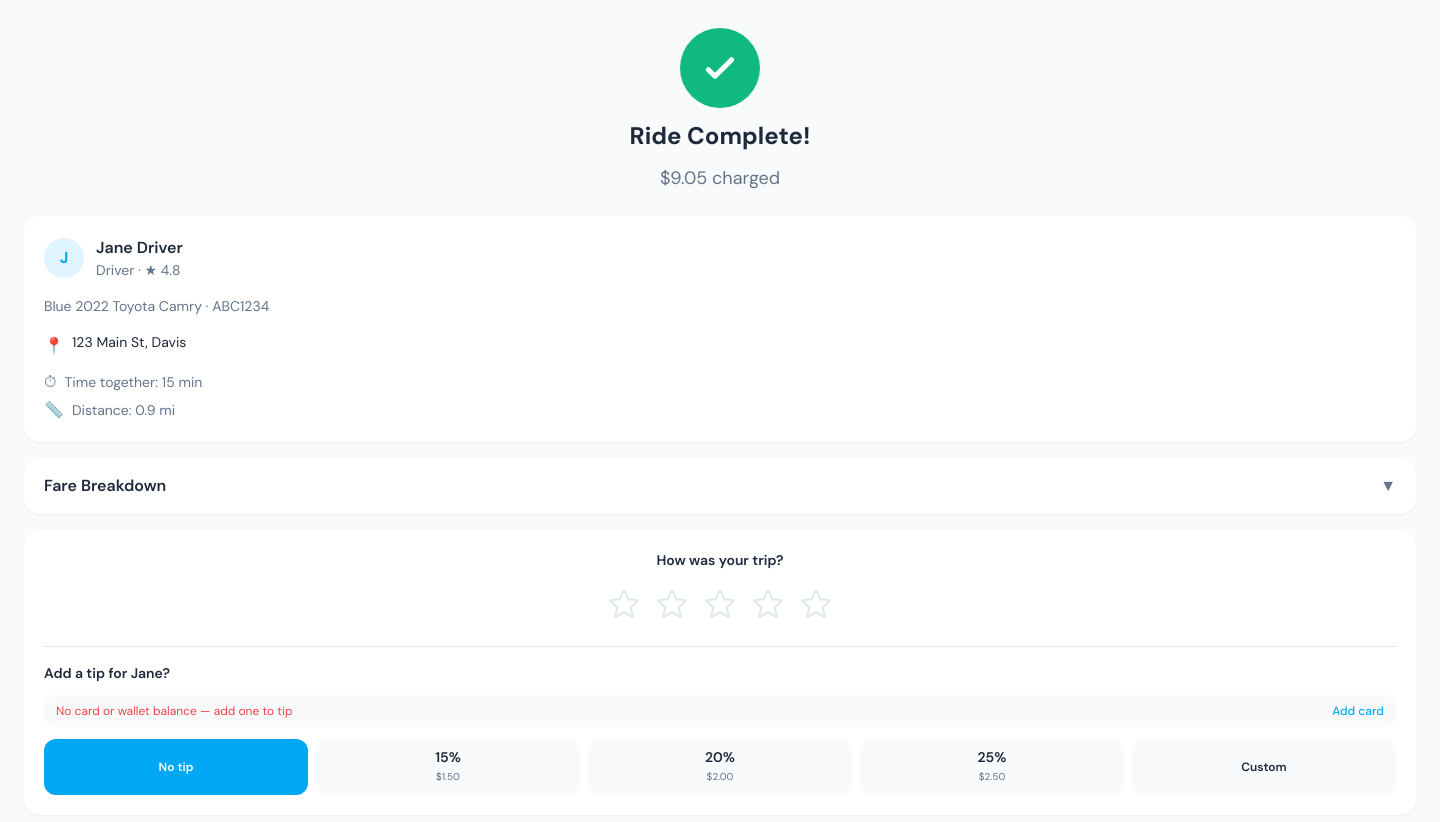
it: RideSummaryPage › Rider view › submit POSTs /rate and transitions to thank-you state
Expected: the element with test id "star-row" is shown, top-left (602, 582), bottom-right (838, 626)
Click the button with test id "star-5" at coordinates (816, 604), box top-left (794, 582), bottom-right (838, 626)
(page scrolled)
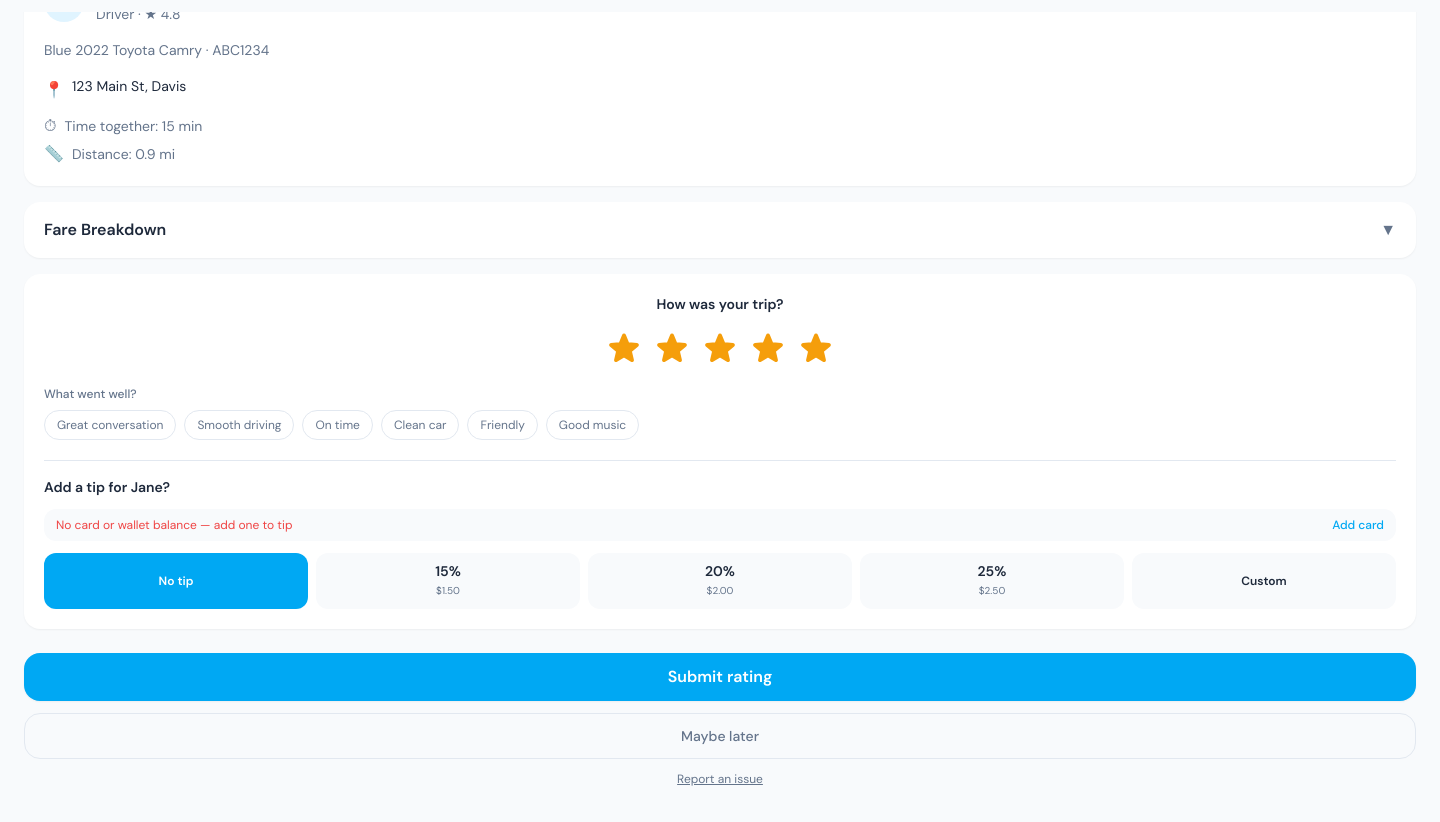
Click the button with test id "submit-rating" at coordinates (720, 677), box top-left (24, 653), bottom-right (1416, 701)
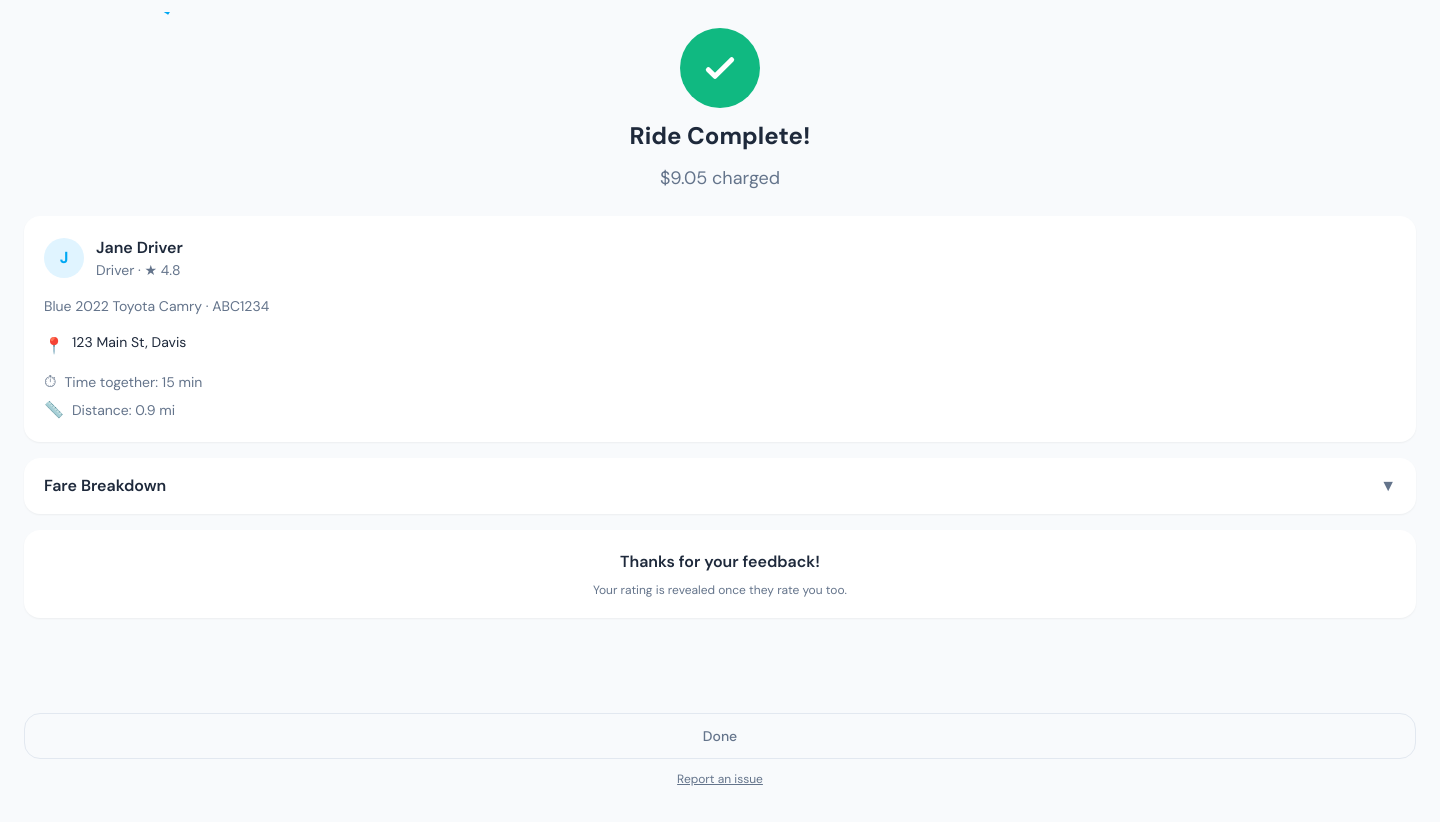
Expected: the element with test id "rate-submitted" is shown, top-left (593, 551), bottom-right (847, 598)
Expected: the text "Thanks for your feedback!" is shown, top-left (620, 551), bottom-right (820, 572)
Expected: the text "Your rating is revealed once they rate you too." is shown, top-left (593, 582), bottom-right (847, 598)
